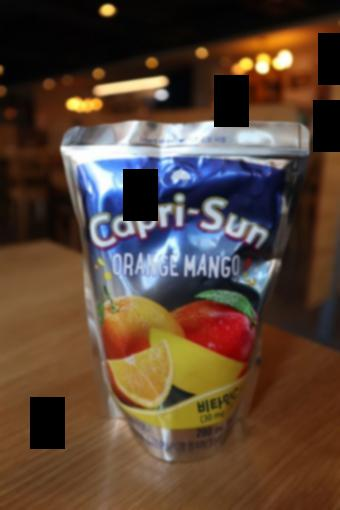cafrisun: (43, 110, 311, 464)
